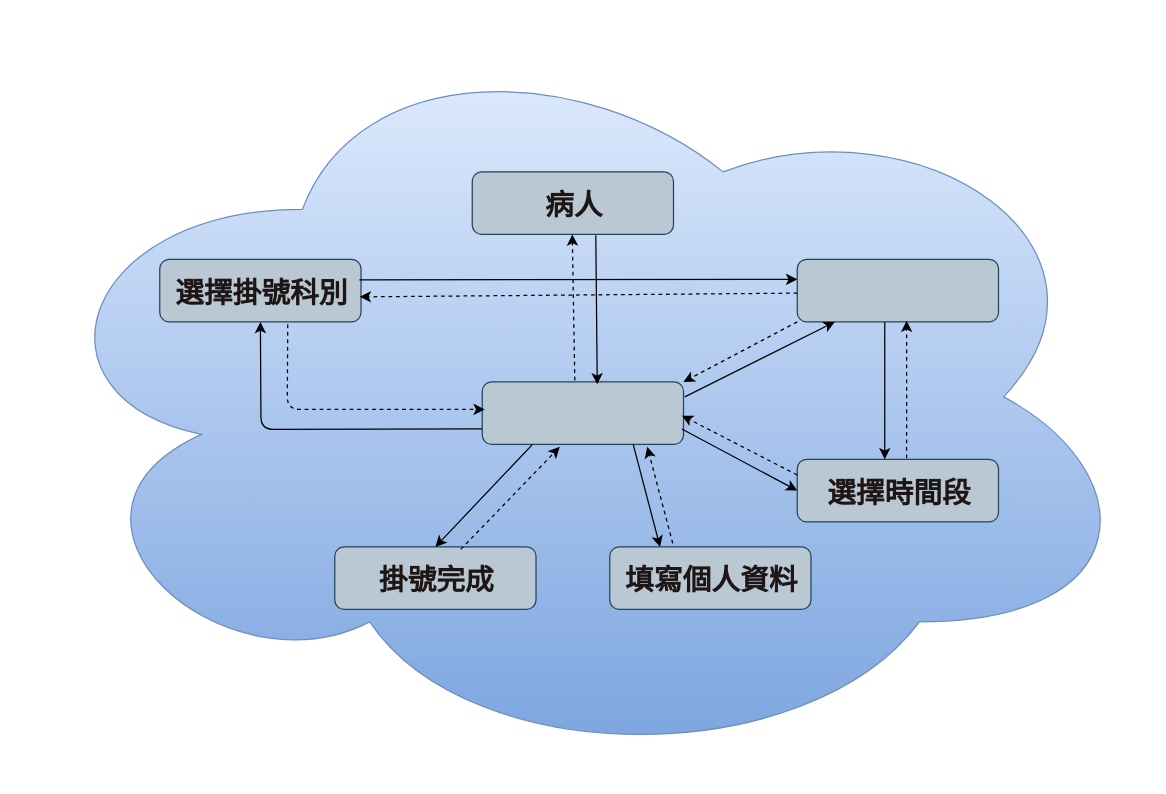
This 1166x794 diagram has some shape labels left out. The centre of each missing label's shape, as x and y in pixels:
"選擇醫生" belongs at (897,290).
"醫院掛號網站" belongs at (582,412).
